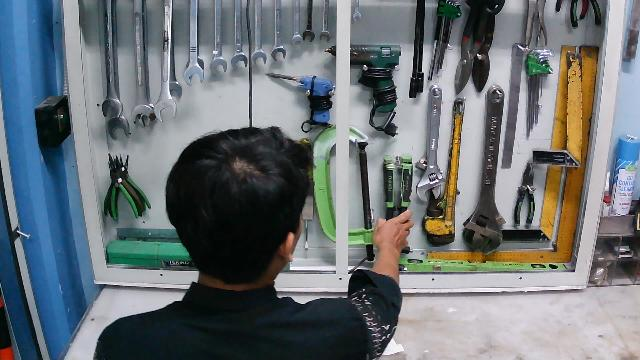tang_rivet: (382, 161, 415, 248)
